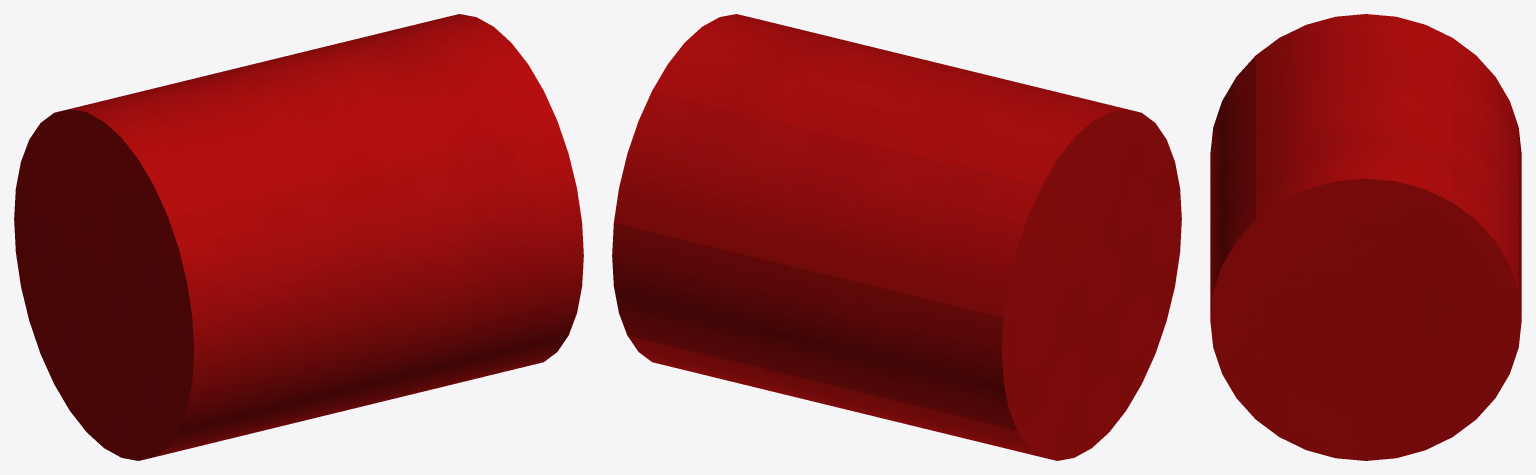
File: dispense_knob__finger_post.glb
The picture shows the model from 3 angles, left to right: view 1: azimuth 30°, elevation 25°; view 2: azimuth 150°, elevation 25°; view 3: azimuth 270°, elevation 25°; orthographic projection. The views are drawn at different scales.
Parts seen in each view (by area): view 1: world; view 2: world; view 3: world.
Boxes of the visible parts, left/top/right/bottom form: world: left=14, top=14, right=583, bottom=460; world: left=612, top=14, right=1181, bottom=460; world: left=1210, top=14, right=1521, bottom=460.
Size of the model in its own units: 0.02 by 0.016 by 0.016.
Materials: 1 (1 with a texture image).
